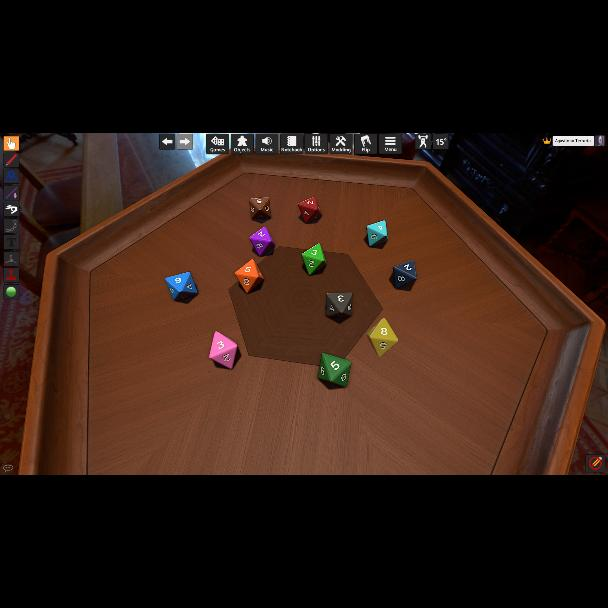d8: (316, 354, 350, 388), (368, 318, 398, 356), (209, 332, 237, 368), (166, 272, 198, 302), (236, 259, 264, 293), (250, 226, 274, 256), (302, 243, 324, 275), (393, 260, 417, 288), (326, 292, 351, 318), (299, 197, 321, 224), (248, 198, 272, 222), (366, 220, 387, 246)
